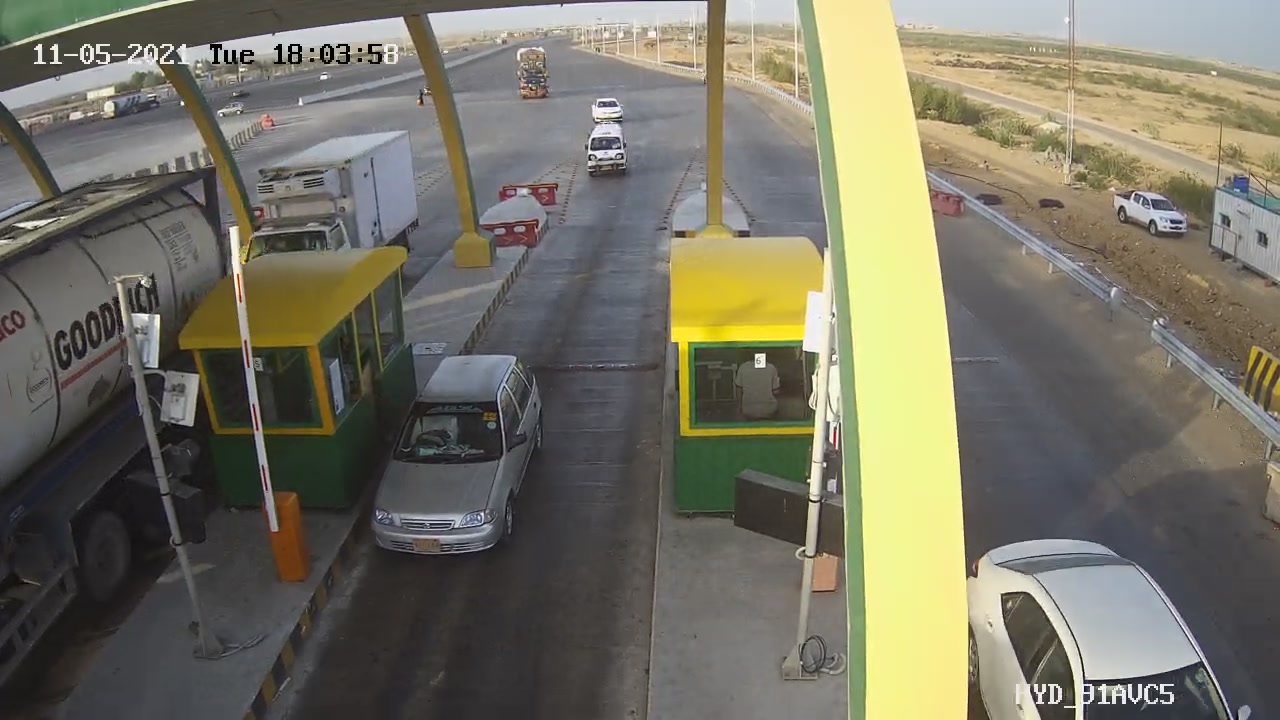F1: (342, 342, 572, 575)
